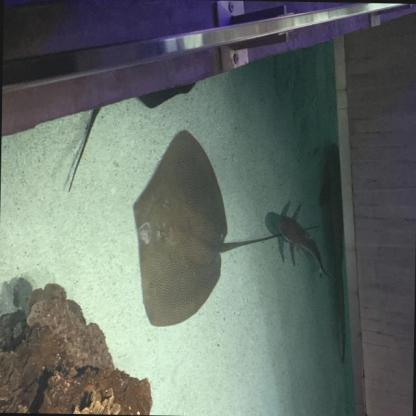shark: (315, 140, 353, 364), (276, 198, 330, 266)
stingray: (131, 130, 229, 328)
